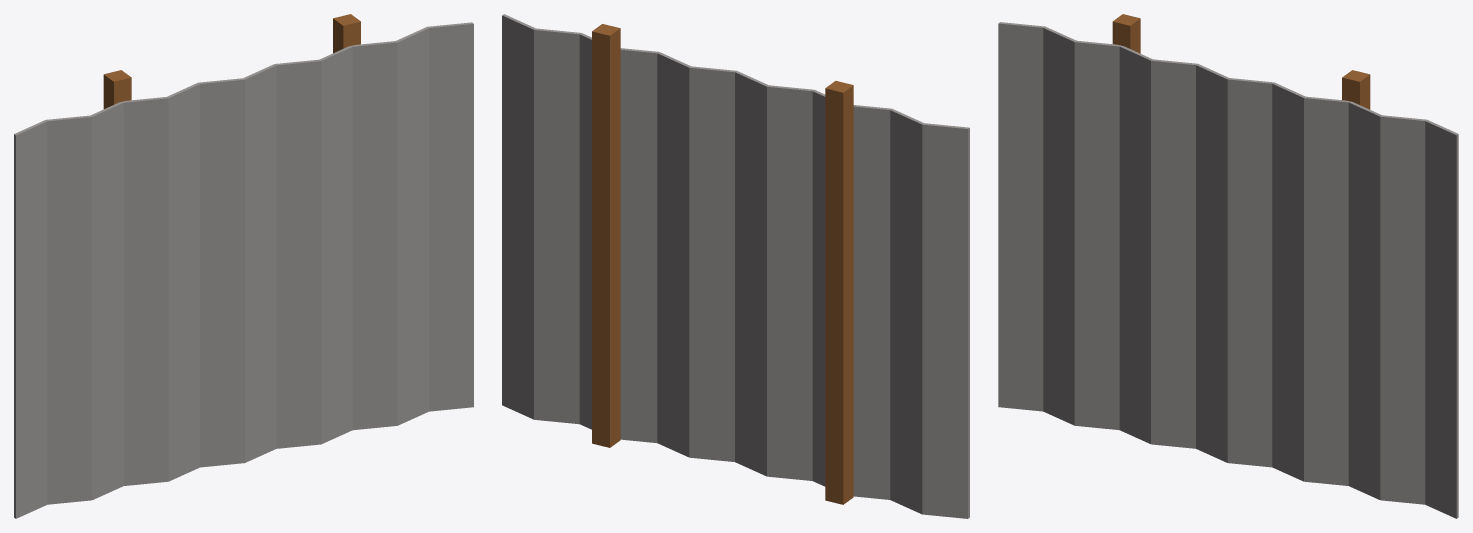
File: Fence_1.fbx
3 renders of one model, left to right at view 1: azimuth 30°, elevation 25°; view 2: azimuth 150°, elevation 25°; view 3: azimuth 330°, elevation 25°, orthographic.
Visible parts, largest first — view 1: Fence_1; view 2: Fence_1; view 3: Fence_1.
Part boxes in pixels (x1,y1,x2,y2): Fence_1: [14, 14, 473, 518]; Fence_1: [502, 14, 969, 518]; Fence_1: [998, 14, 1458, 518].
Size of the model in its own units: 300 by 254 by 20.88.
